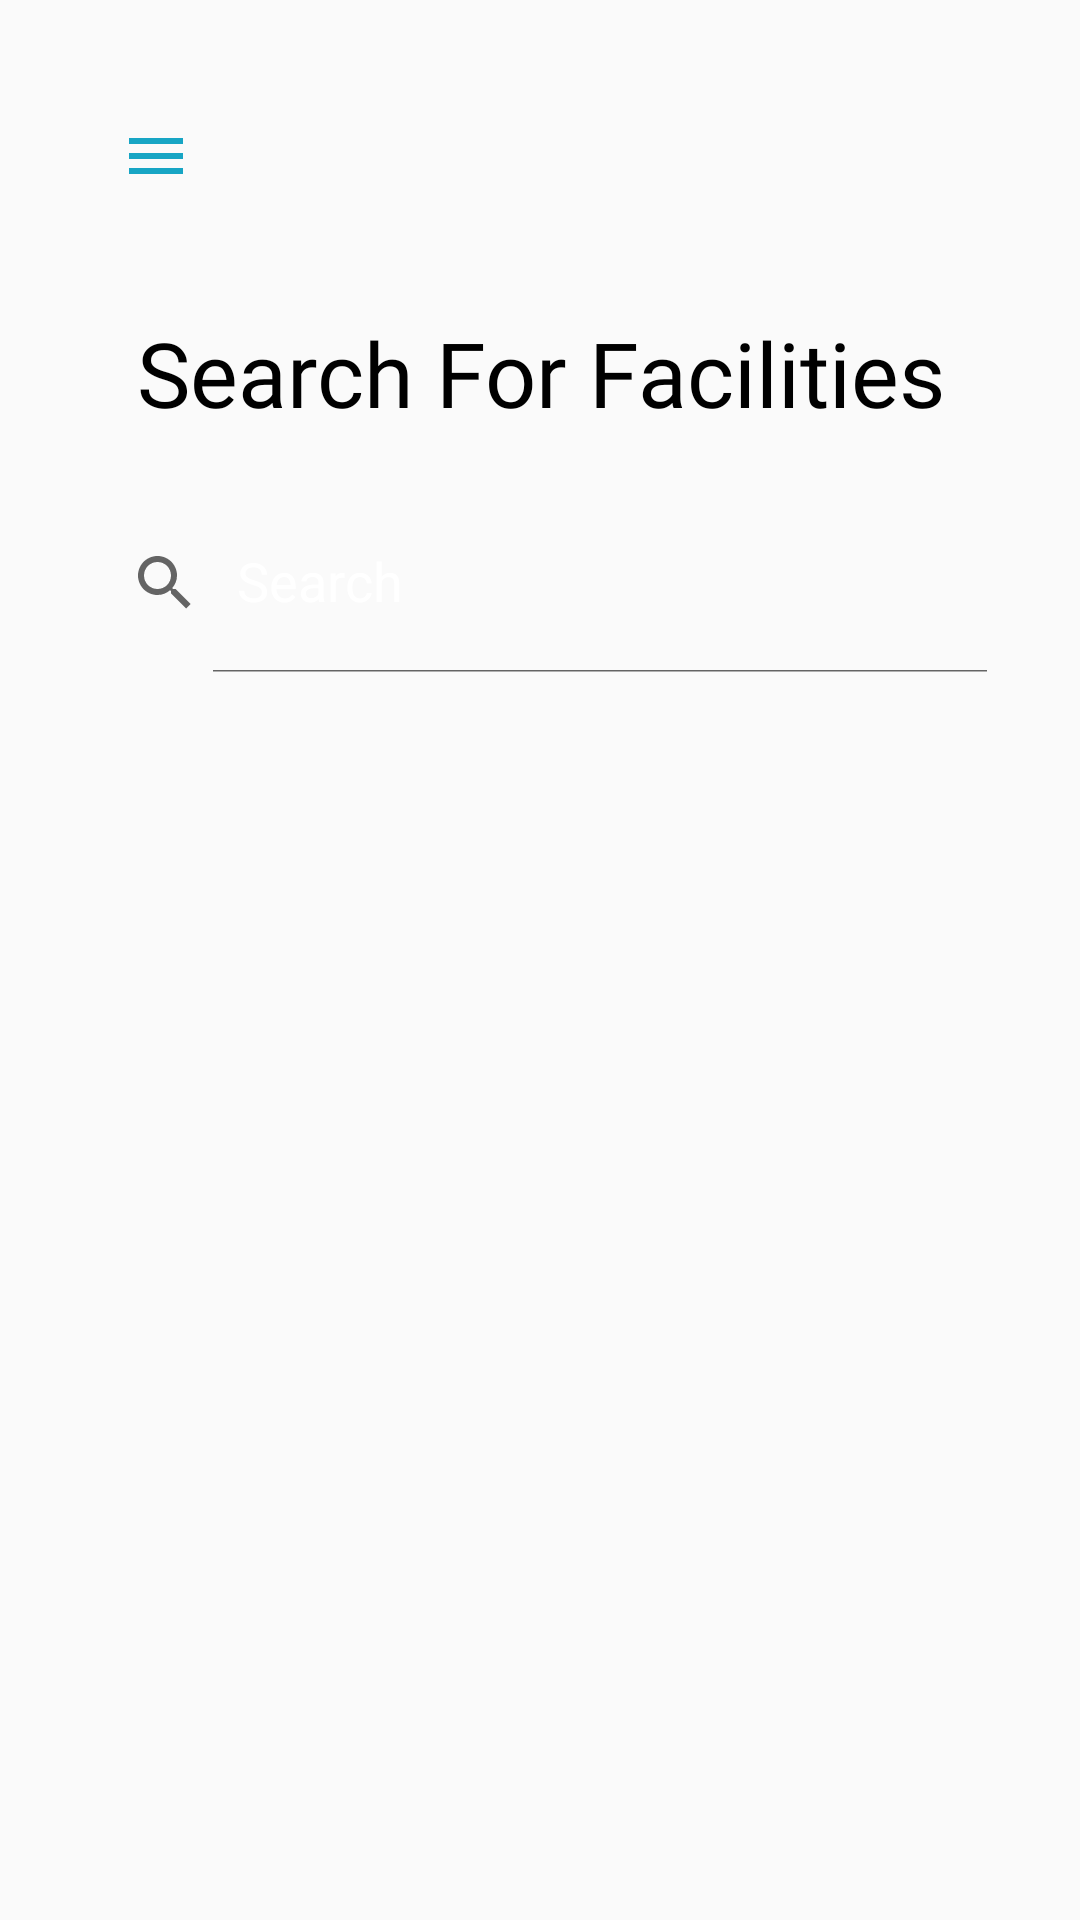

Named icons in this screenshot (1080px×1920px) and their bounding boxes, (x1, y1, x2, y2):
menu: (129, 138, 183, 174)
